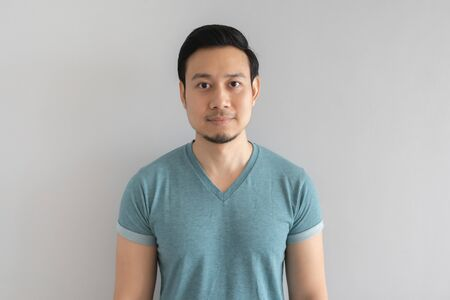NoMask: (187, 68, 250, 146)
